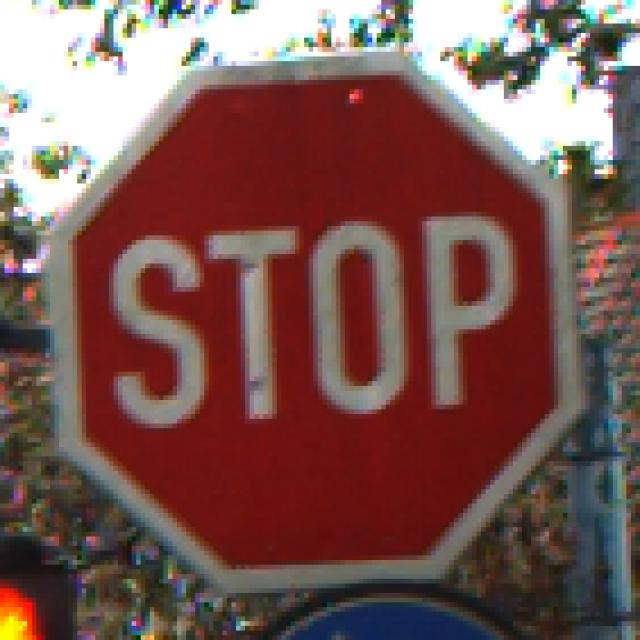STOP: (56, 53, 587, 589)
